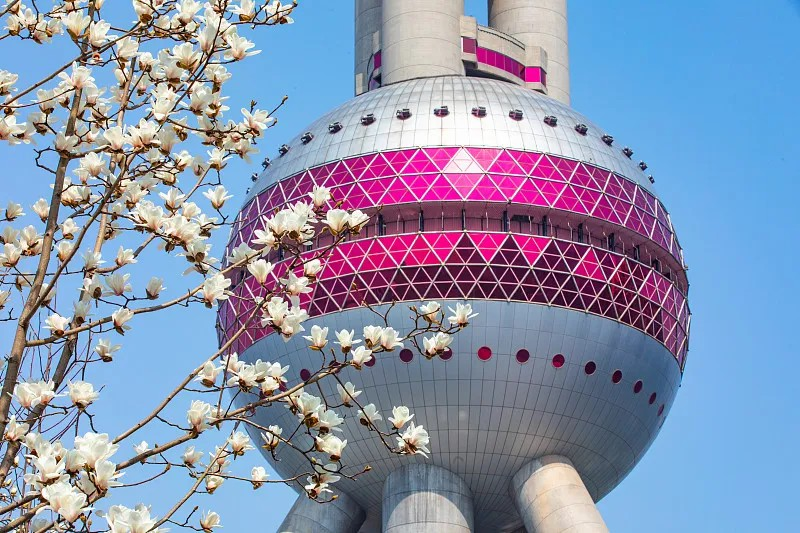Oriental: (217, 2, 692, 533)
